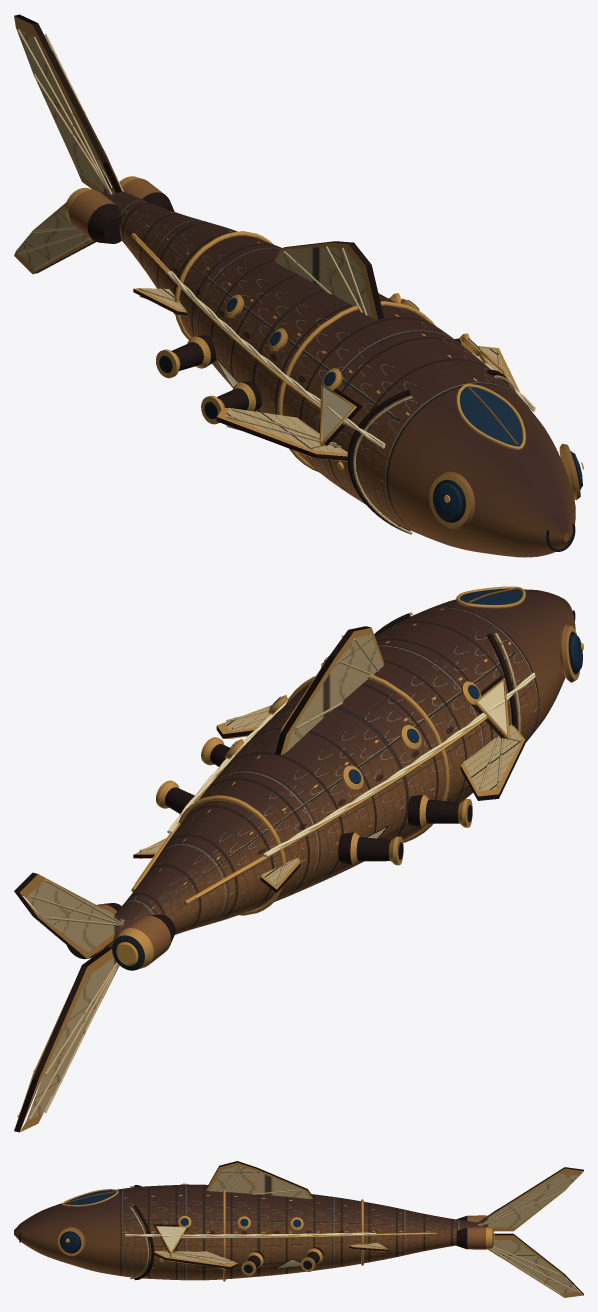
3 renders of one model, top to bottom at view 1: azimuth 30°, elevation 25°; view 2: azimuth 150°, elevation 25°; view 3: azimuth 270°, elevation 25°, orthographic. The views are drawn at different scales.
Visible parts, largest first — view 1: sardine_hull; view 2: sardine_hull; view 3: sardine_hull.
Part boxes in pixels (x1,y1,x2,y2): sardine_hull: (14,14,583,557); sardine_hull: (14,586,583,1132); sardine_hull: (14,1161,583,1297).
Size of the model in its own units: 4.8 by 4.25 by 16.2.
1 material, 1 textured.
